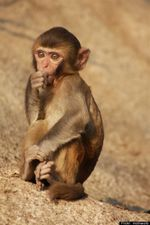monkey: (21, 19, 127, 195)
